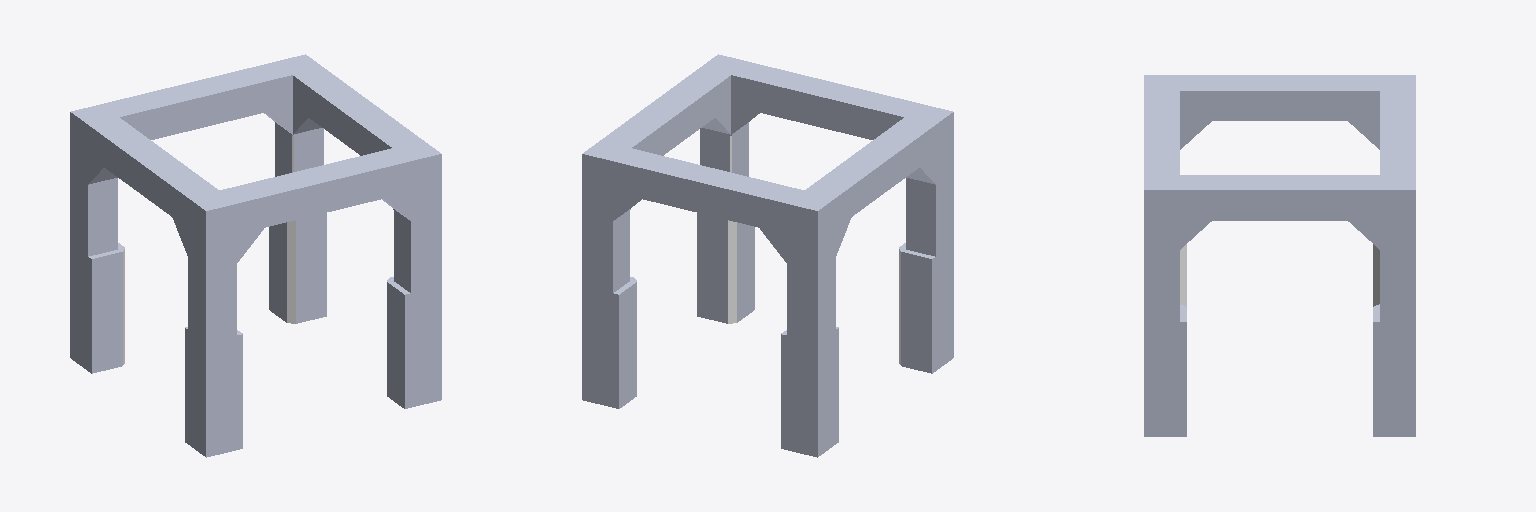
Rendered from spaceInterior_063.obj.
3 renders of one model, left to right at view 1: azimuth 30°, elevation 25°; view 2: azimuth 150°, elevation 25°; view 3: azimuth 270°, elevation 25°, orthographic.
Visible parts, largest first — view 1: Mesh1 Group1 Model; view 2: Mesh1 Group1 Model; view 3: Mesh1 Group1 Model.
Boxes of the visible parts, x1,y1,x2,y2 form: Mesh1 Group1 Model: [70, 54, 441, 457]; Mesh1 Group1 Model: [582, 54, 953, 457]; Mesh1 Group1 Model: [1144, 75, 1415, 436].
Size of the model in its own units: 1 by 1 by 1.